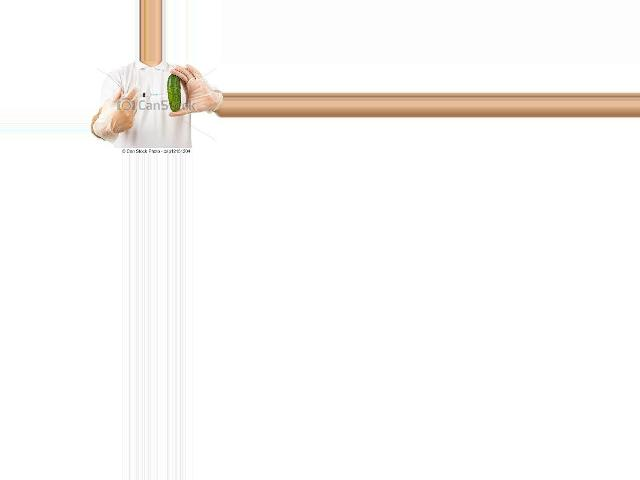cucumber: (168, 73, 181, 112)
